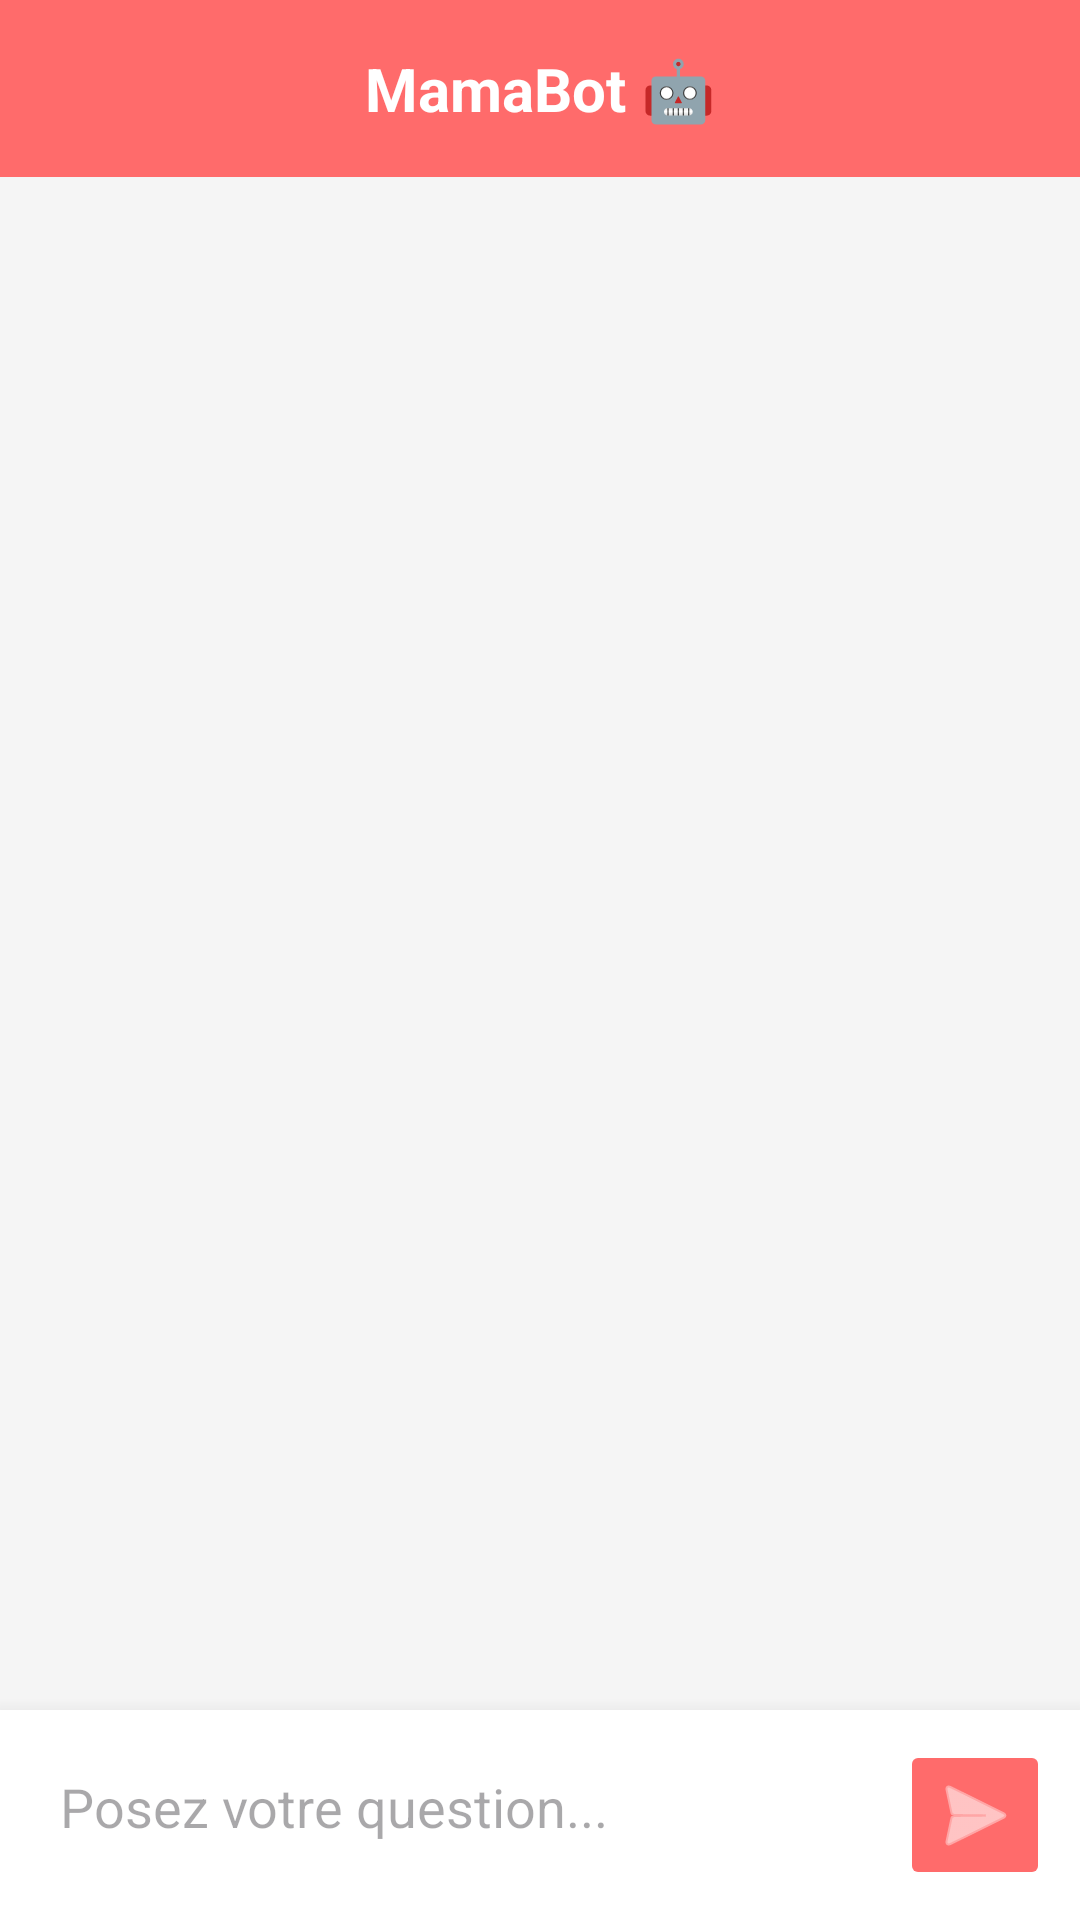

Named icons in this screenshot (1080 × 1920) and their centers, point (x, y):
send: point (975, 1815)
